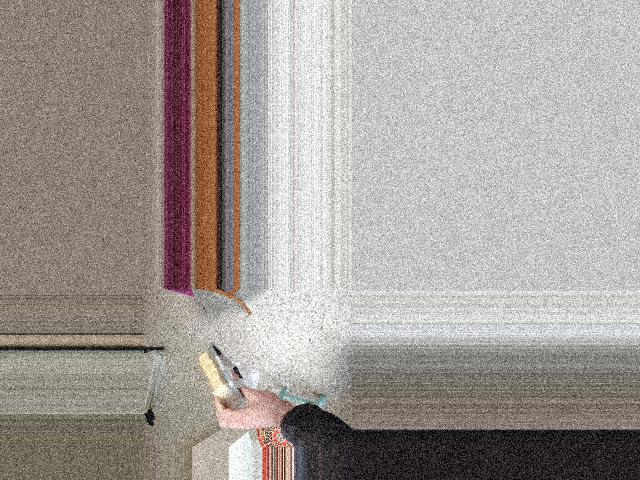cheese: (183, 339, 264, 441)
